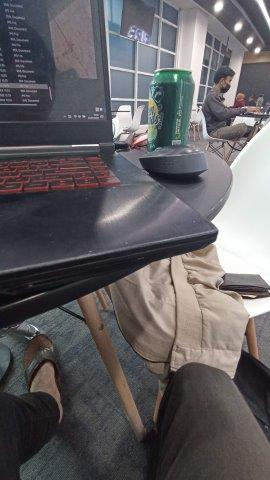kaleng: (148, 68, 195, 151)
